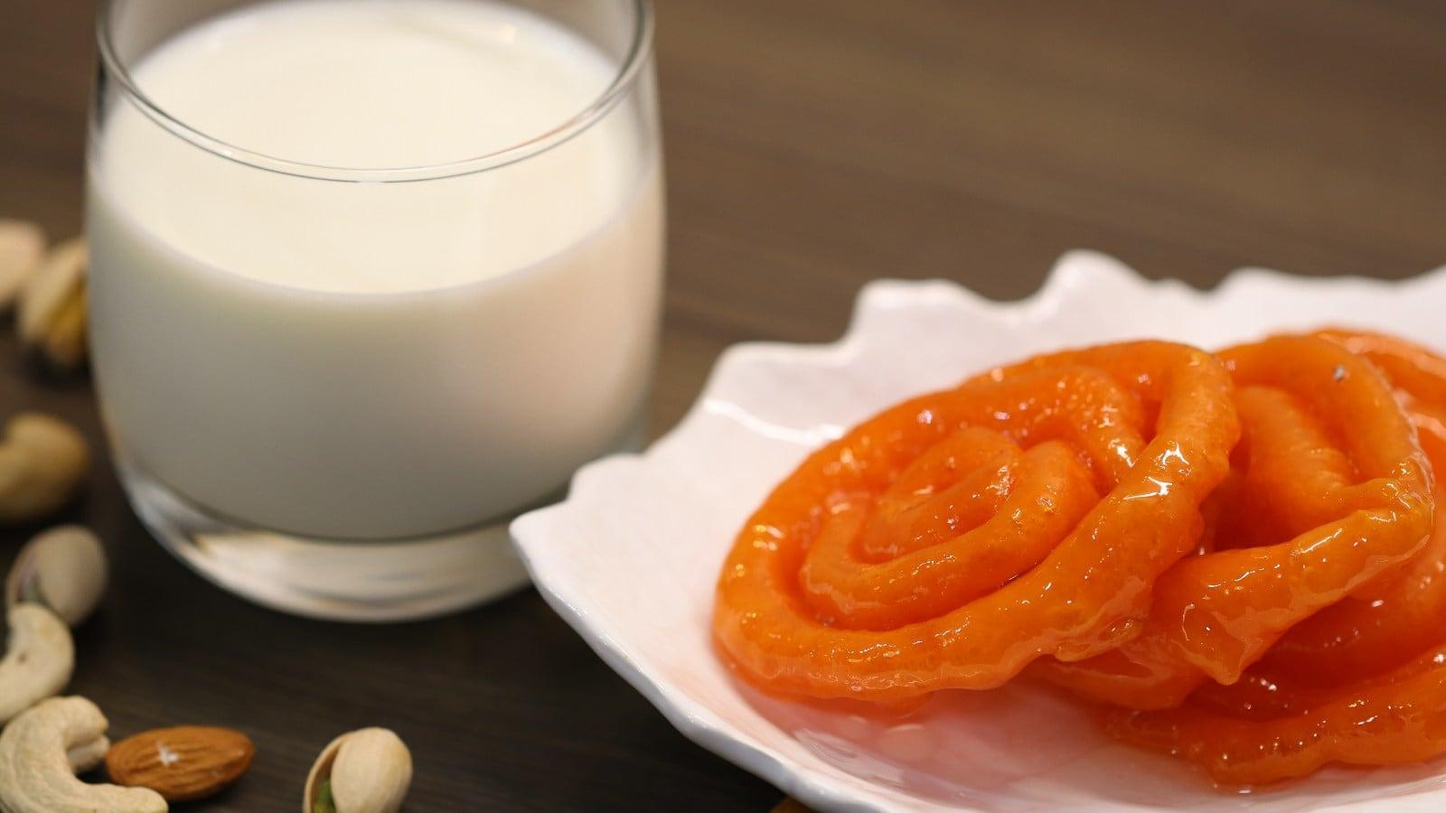jalebi: (723, 340, 1432, 813)
